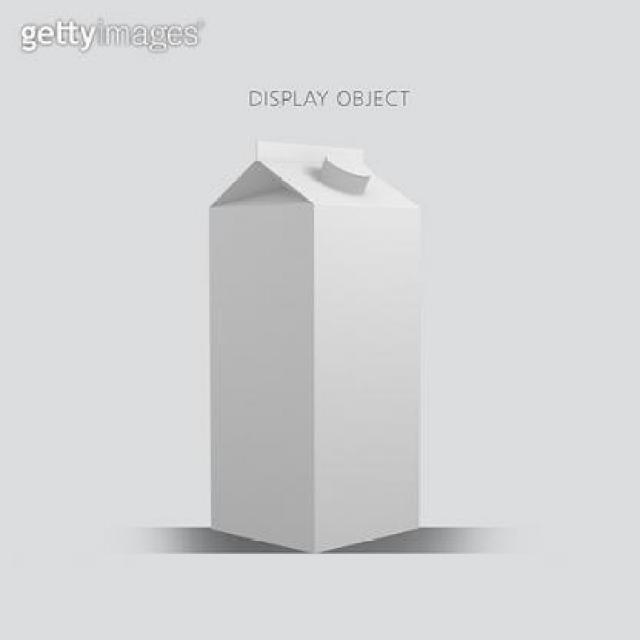non_white_jug: (202, 136, 430, 559)
